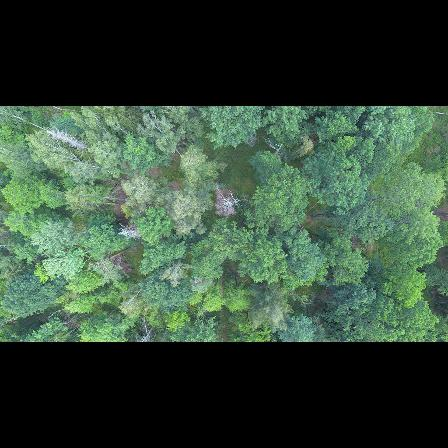Dead: (42, 128, 88, 151), (92, 245, 131, 271), (211, 191, 245, 217), (134, 317, 159, 342), (118, 223, 143, 239)
